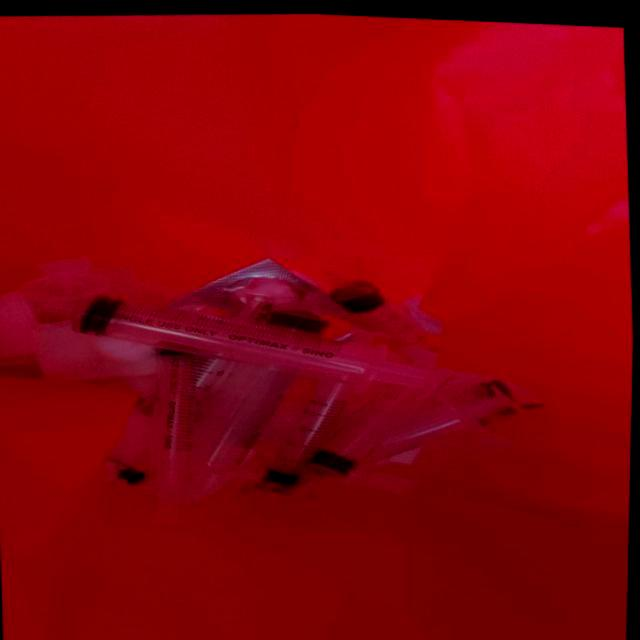General: (72, 254, 545, 519)
